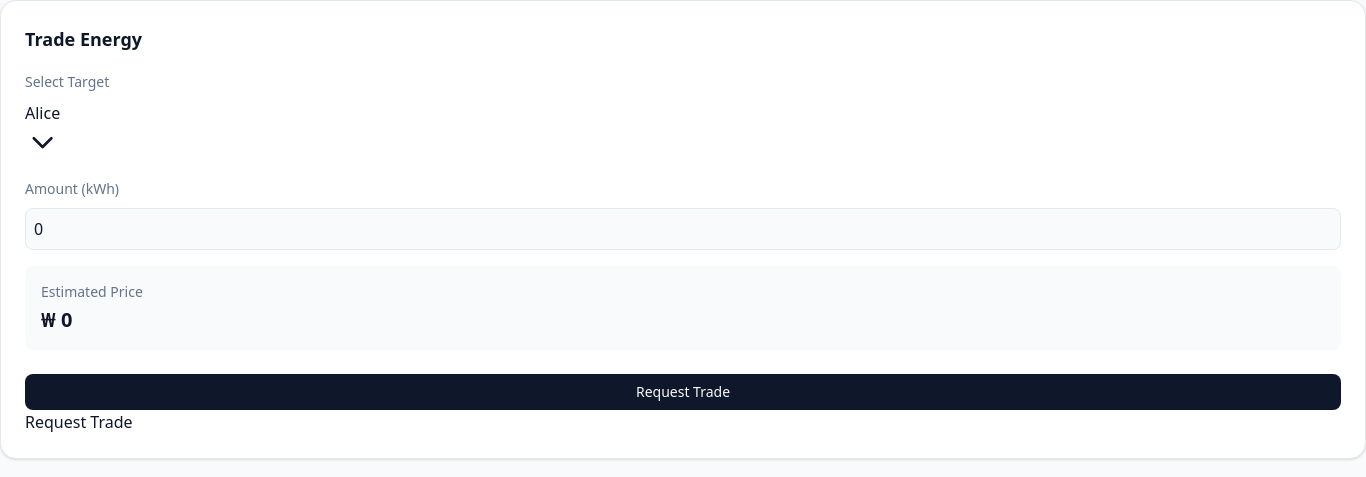
Test: TradeForm › updates the estimated price when the amount changes
Replace the text in the number field with "12" at (683, 229), box [25,208,1341,250]
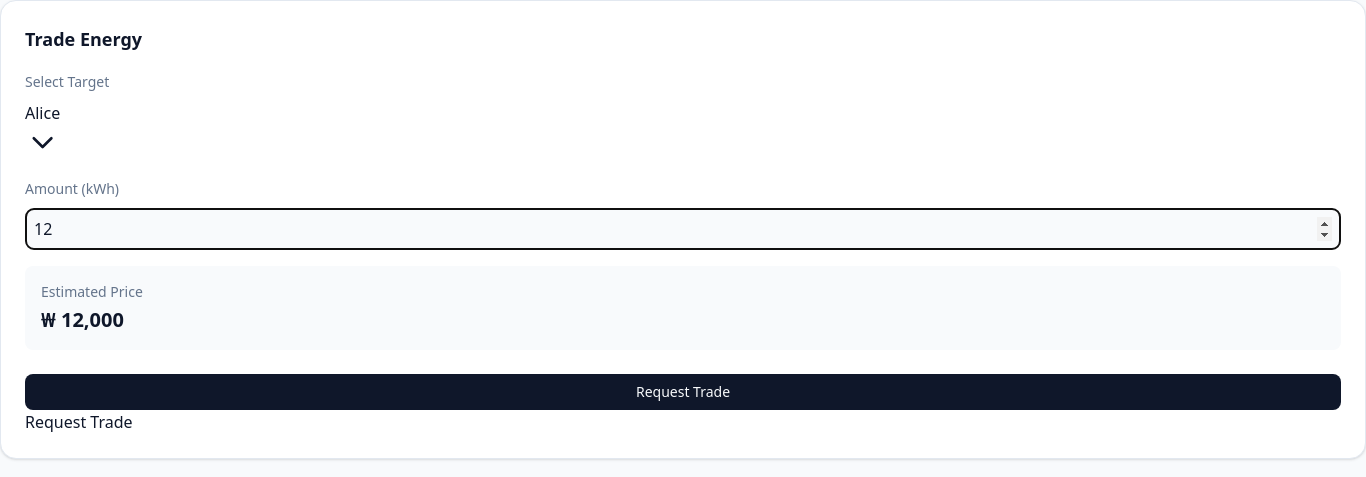
Check: the text "₩ 12,000" is shown, box [41,306,124,333]
